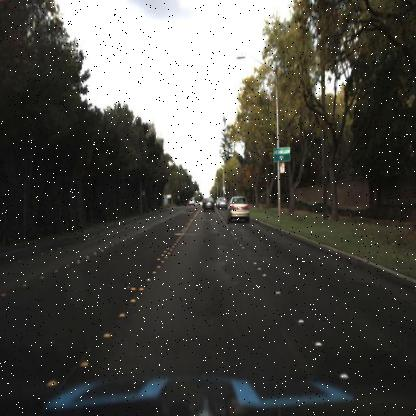car: (226, 190, 249, 223), (202, 194, 215, 215), (215, 192, 229, 211), (218, 196, 226, 208)
